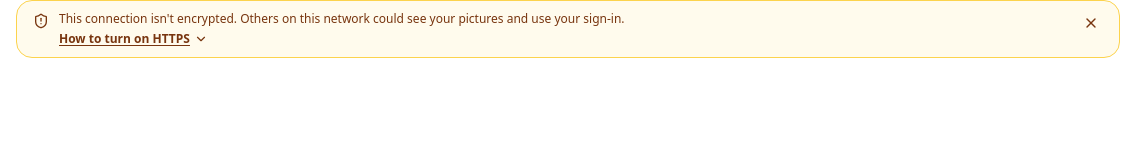
Test: HttpWarningBanner › tells the owner the ways to turn HTTPS on
expect the text "set tls self_signed" is not shown: met
What coordinates should you click on to do the following:
click the button "How to turn on HTTPS"
I would click on:
 (134, 39)
Its box is [59,31,208,47].
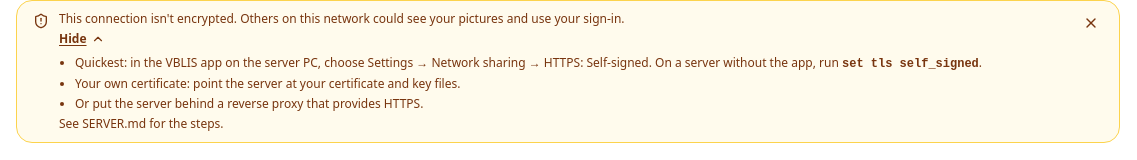
expect the button named "How to turn on HTTPS" is expanded: met
expect the list item "in the VBLIS app on the server PC, choose Settings → Network sharing → HTTPS: Self-signed" is shown: met, box [75,54,842,71]
expect the text "set tls self_signed" is shown: met, box [842,57,979,71]
What coordinates should you click on to do the following:
click the button "Hide"
I would click on:
 (82, 39)
Its box is [59,31,104,47].
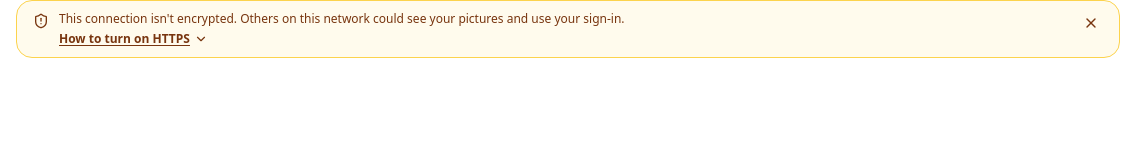
expect the list item "reverse proxy" is gone: met
